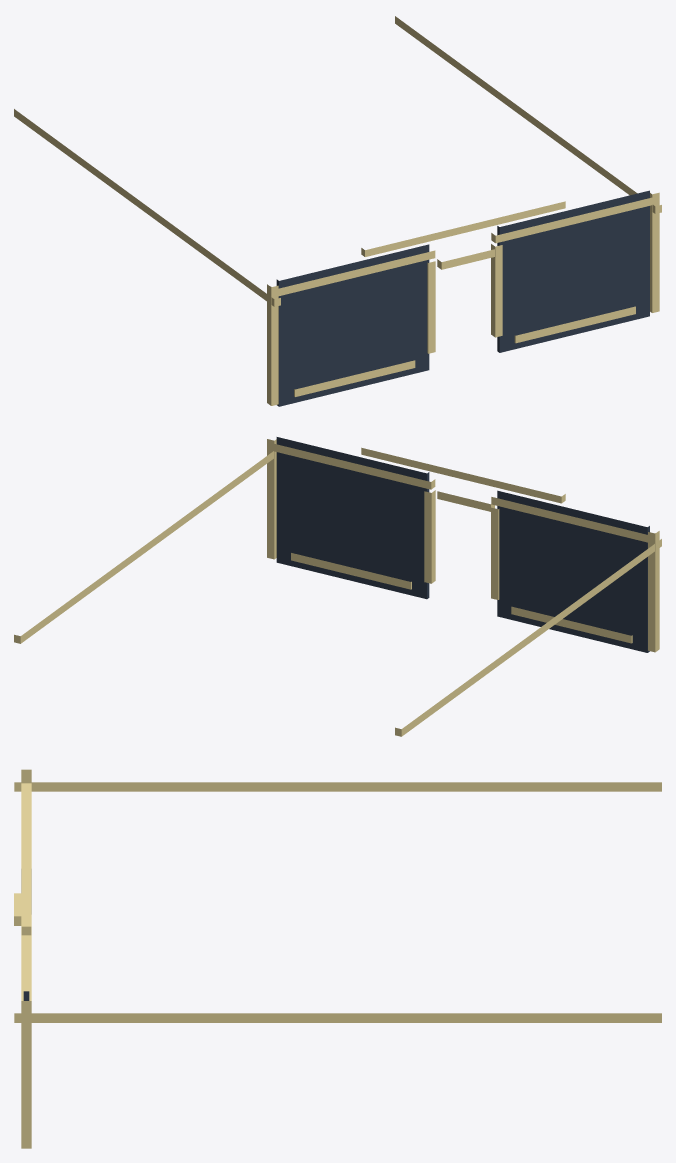
Rendered from aviator_gold_pilot.glb.
3 renders of one model, top to bottom at view 1: azimuth 30°, elevation 25°; view 2: azimuth 150°, elevation 25°; view 3: azimuth 270°, elevation 25°, orthographic. The views are drawn at different scales.
Parts seen in each view (by area): view 1: Aviator_Dark_Lenses_Node, Aviator_Frame_Node; view 2: Aviator_Dark_Lenses_Node, Aviator_Frame_Node; view 3: Aviator_Frame_Node.
Part boxes in pixels (x1=…): Aviator_Dark_Lenses_Node: x1=276, y1=190, x2=649, y2=406; Aviator_Frame_Node: x1=14, y1=16, x2=661, y2=405; Aviator_Dark_Lenses_Node: x1=276, y1=437, x2=649, y2=652; Aviator_Frame_Node: x1=14, y1=439, x2=661, y2=736; Aviator_Frame_Node: x1=14, y1=769, x2=661, y2=1148.
Bounding box in the file's own units: 116 × 39 × 135.
